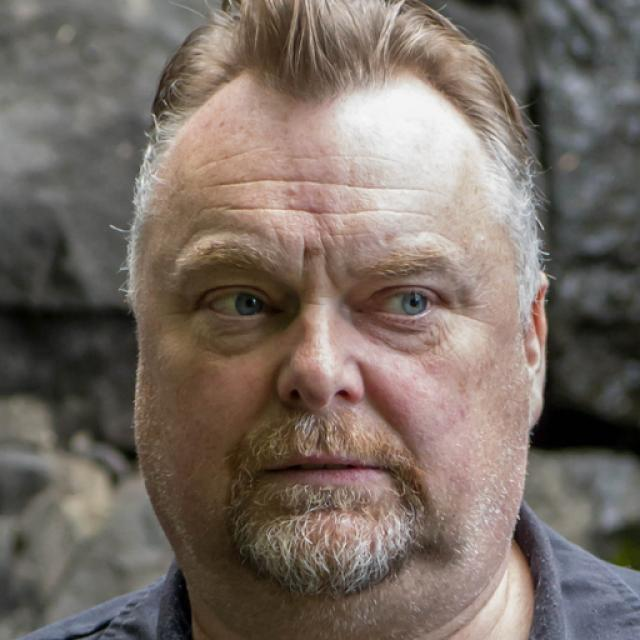Acne: (285, 187, 306, 205)
Dark Circle: (195, 309, 293, 356), (345, 312, 447, 352)
Wrinkle: (202, 173, 443, 194), (193, 200, 440, 220), (282, 144, 403, 168), (199, 144, 258, 170)
